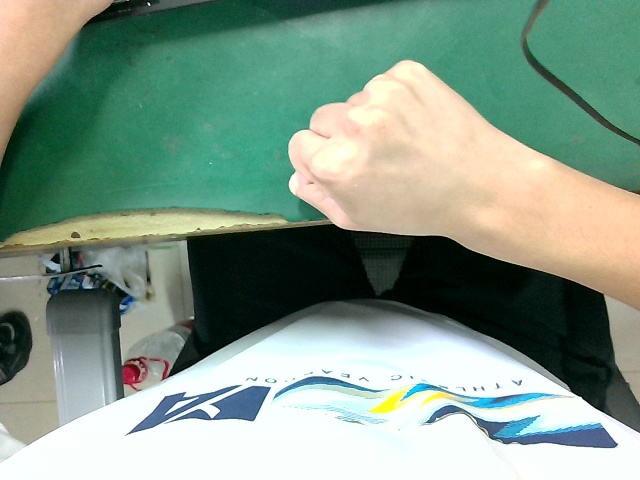stone: (252, 37, 541, 289)
